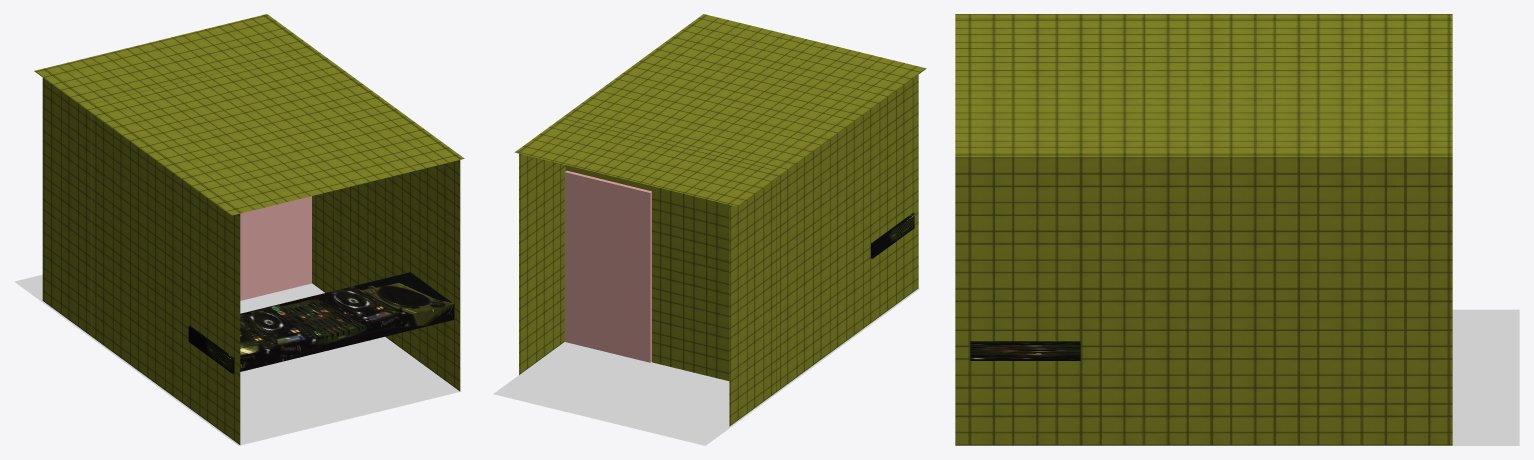
File: horroom.glb
3 renders of one model, left to right at view 1: azimuth 30°, elevation 25°; view 2: azimuth 150°, elevation 25°; view 3: azimuth 270°, elevation 25°, orthographic. The views are drawn at different scales.
Visible parts, largest first — view 1: Plane.004, Plane.001, Plane.002, Plane, Cube, Cube.005, Plane.003; view 2: Plane.004, Plane.001, Cube.005, Plane.003, Plane, Plane.002, Cube; view 3: Plane.002, Plane.004, Plane, Cube, Plane.001.
Boxes of the visible parts, box(x1,y1,x2,y2) form: Plane.004: box(34, 14, 464, 215); Plane.001: box(42, 69, 240, 444); Plane.002: box(263, 15, 460, 391); Plane: box(14, 274, 460, 445); Cube: box(188, 272, 454, 373); Cube.005: box(240, 196, 311, 300); Plane.003: box(91, 50, 310, 335); Plane.004: box(514, 14, 926, 206); Plane.001: box(729, 66, 918, 426); Cube.005: box(565, 170, 651, 362); Plane.003: box(565, 119, 776, 392); Plane: box(493, 288, 919, 445); Plane.002: box(519, 15, 707, 374); Cube: box(871, 213, 914, 258); Plane.002: box(955, 153, 1452, 445); Plane.004: box(955, 14, 1452, 157); Plane: box(955, 309, 1519, 445); Cube: box(970, 341, 1080, 360); Plane.001: box(955, 18, 1452, 19).
Size of the model in its own units: 2.38 by 2.27 by 3.97.
7 materials, 3 textured.
